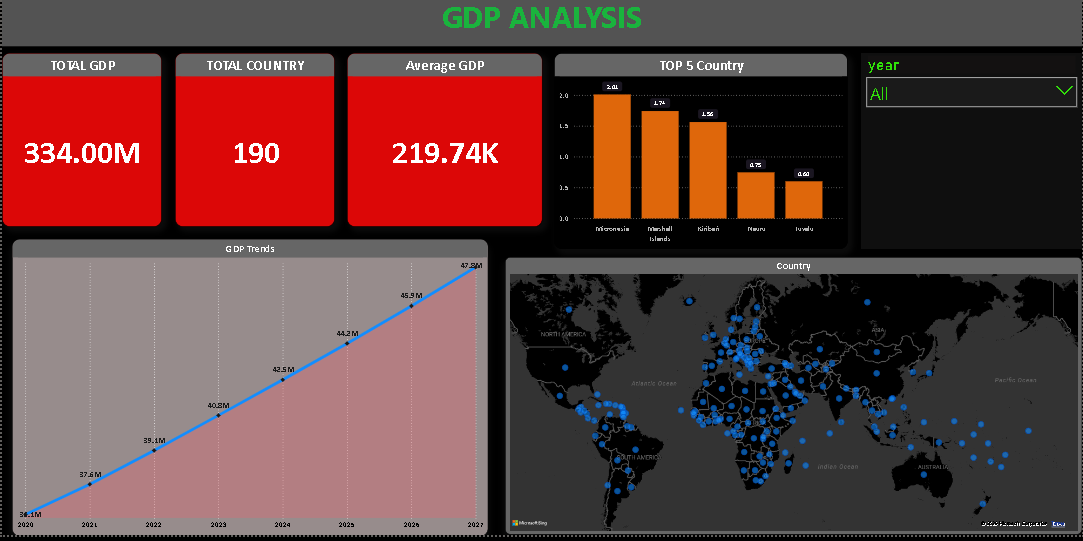

Layout of this report page (visuals, bound fields, positions):
{"tool":"powerbi","page":{"name":"GDP","canvas":[2000,1000],"ordinal":0},"visuals":[{"type":"textbox","box":[0,0,2000,94.5],"z":0},{"type":"card","title":"TOTAL GDP","fields":{"Values":["Sum(GDP.GDP Value)"]},"box":[0,107.5,296.2,322.4],"z":1000},{"type":"card","title":"TOTAL COUNTRY","fields":{"Values":["Count(GDP.Country)"]},"box":[319.8,107.5,296.2,322.4],"z":2000},{"type":"card","title":"Average GDP","fields":{"Values":["Avg(GDP.GDP Value)"]},"box":[639.6,107.5,361.7,322.4],"z":3000},{"type":"lineChart","title":"GDP Trends","fields":{"Category":["GDP.year"],"Y":["Sum(GDP.GDP Value)"]},"box":[19.4,451.6,881.7,550.5],"z":4000},{"type":"map","fields":{"Category":["GDP.Country"]},"box":[931.2,486,1068.8,514],"z":5000},{"type":"columnChart","title":"TOP 5 Country","fields":{"Category":["GDP.Country"],"Y":["Sum(GDP.GDP Value)"]},"box":[1021.5,107.5,544.1,363.4],"z":6000},{"type":"slicer","fields":{"Values":["GDP.year"]},"box":[1590,106.7,410,363.3],"z":7000}]}

Visuals, with their boxes in screenshot pixels (x1, y1, x2, y2), scaled from the page's 2000x1000 canvas onto the 1083x541 screenshot:
textbox: BBox(0, 0, 1082, 51)
"TOTAL GDP" card: BBox(0, 58, 160, 233)
"TOTAL COUNTRY" card: BBox(173, 58, 334, 233)
"Average GDP" card: BBox(346, 58, 542, 233)
"GDP Trends" lineChart: BBox(11, 244, 488, 540)
map - GDP.Country: BBox(504, 263, 1082, 540)
"TOP 5 Country" columnChart: BBox(553, 58, 848, 255)
slicer - GDP.year: BBox(861, 58, 1082, 254)
